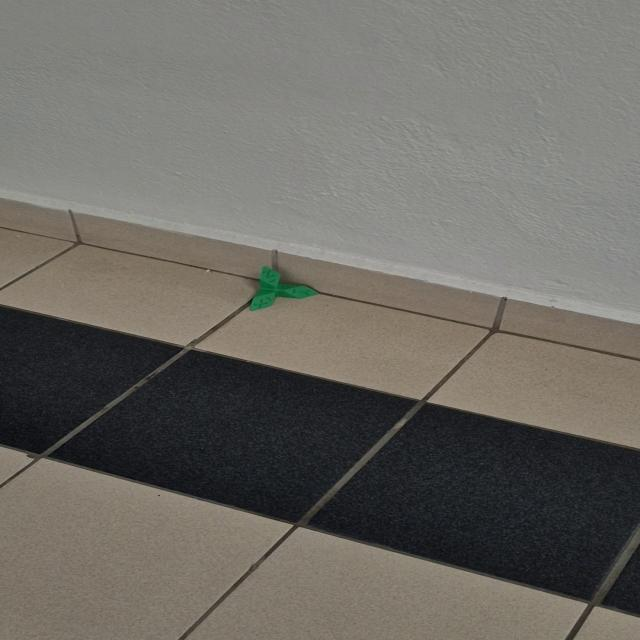objects: (248, 265, 320, 312)
